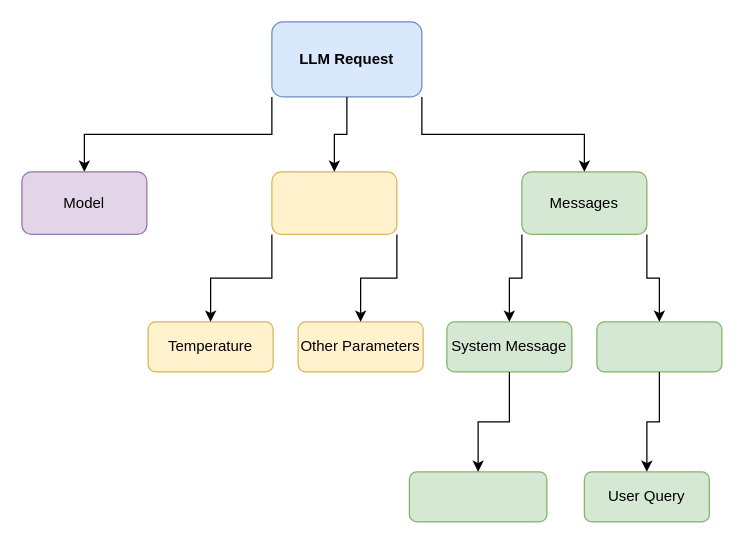
This 744x544 diagram has some shape labels left out. Each missing label, with the centre of its shape:
"Instructions & Context" belongs at (x=477, y=496).
"Options" belongs at (x=334, y=202).
"User Message" belongs at (x=659, y=346).
